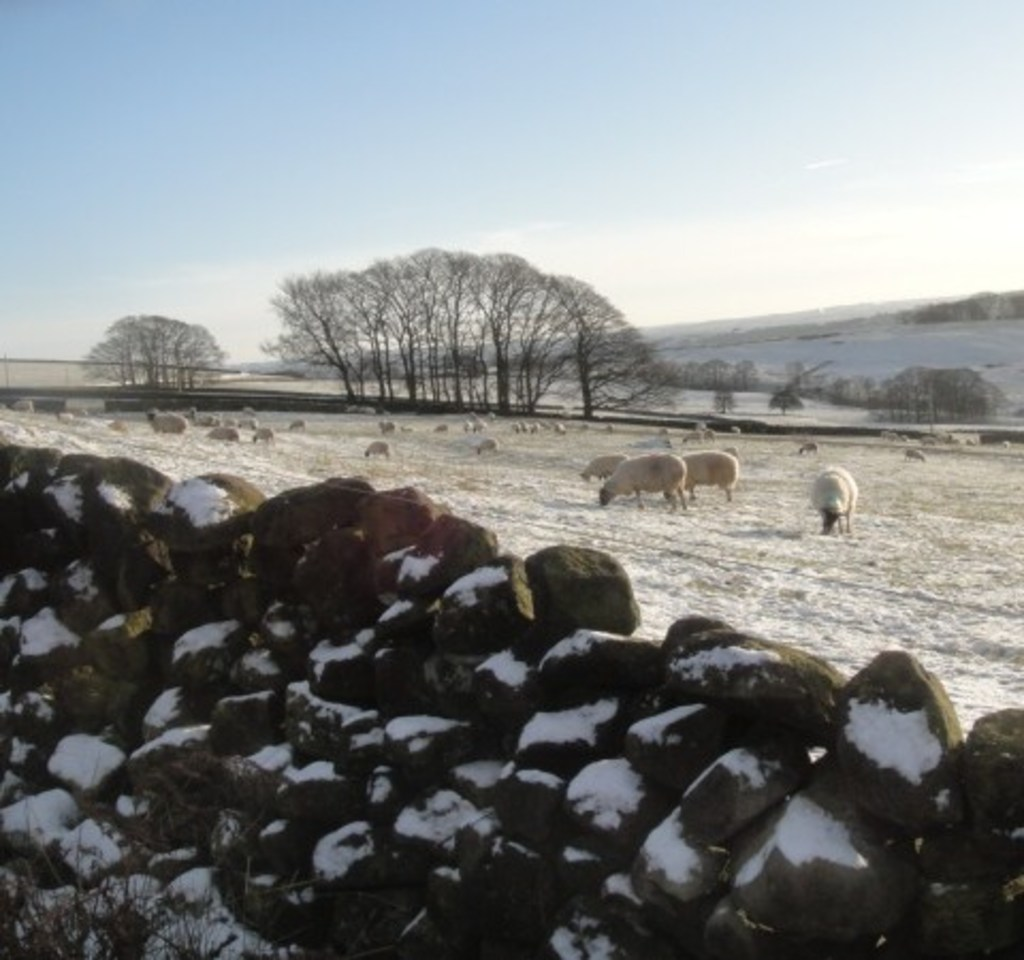sheep: (810, 462, 859, 533)
